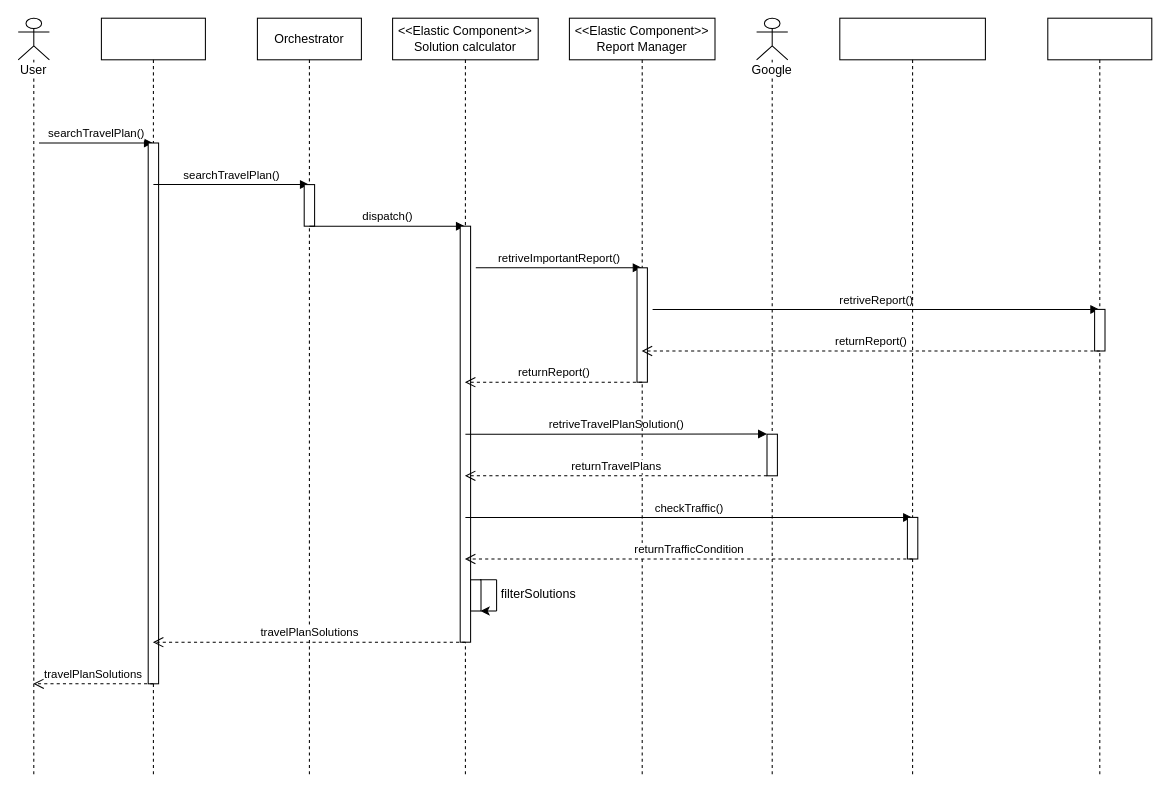
The diagram is 1170 pixels wide and 796 high, and some of its shapes have lost their labels. The shapes that lost their labels are listed below. From the top down, each one's box as (x1, y1, x2, y2) in pixels, then its label:
(100, 17, 205, 777): Mobile App
(839, 17, 985, 777): <<Elastic Component>> Traffic Manager
(1047, 17, 1152, 777): DBMS
